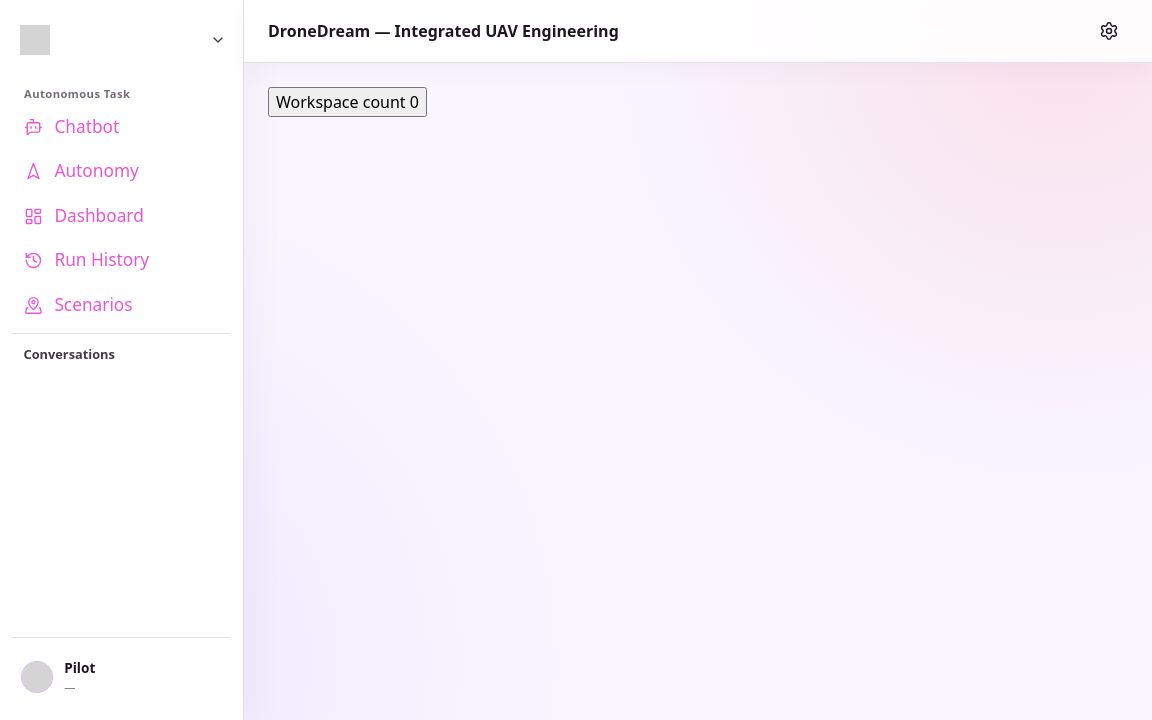
Test: sidebar account menu › keeps the header gear concise and routes All settings into the workspace
This screenshot has width=1152, height=720.
Click the button named "Settings" at (1109, 31), box [1090, 12, 1128, 50]
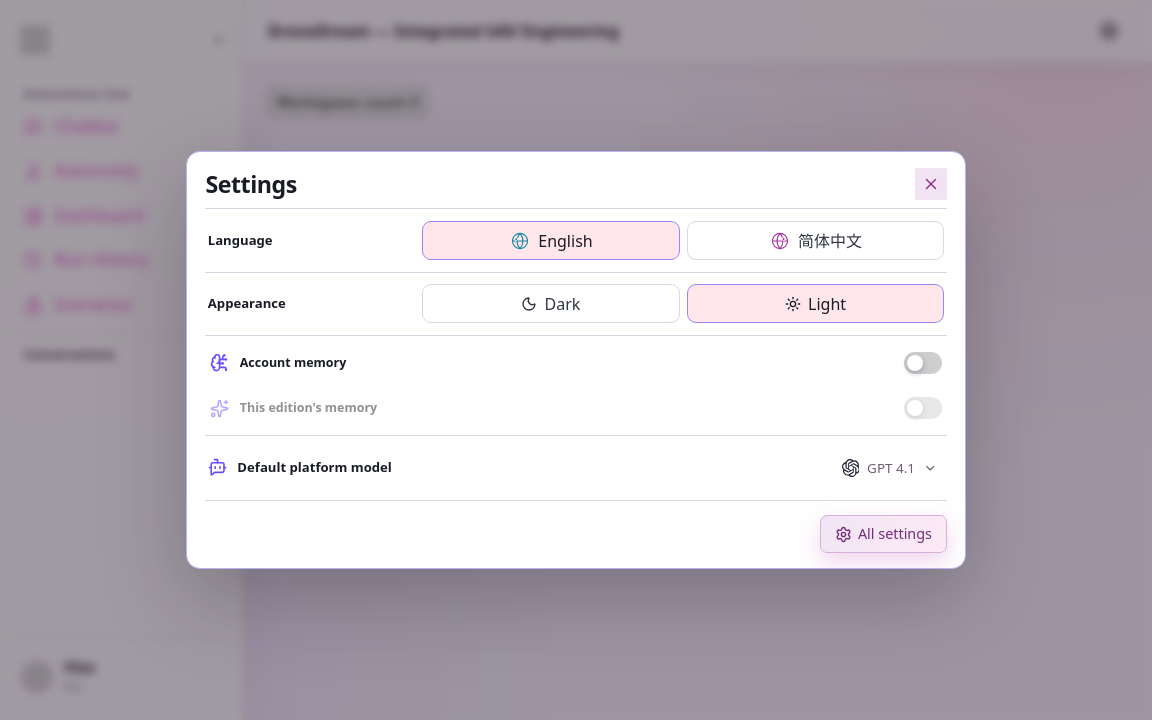
Expected: the text "Language" is shown, [208, 231, 273, 249]
Expected: the text "Appearance" is shown, [208, 294, 286, 312]
Expected: the text "Account memory" is shown, [240, 355, 346, 370]
Click the checkbox labelled "Account memory" at (293, 362), box [210, 352, 942, 374]
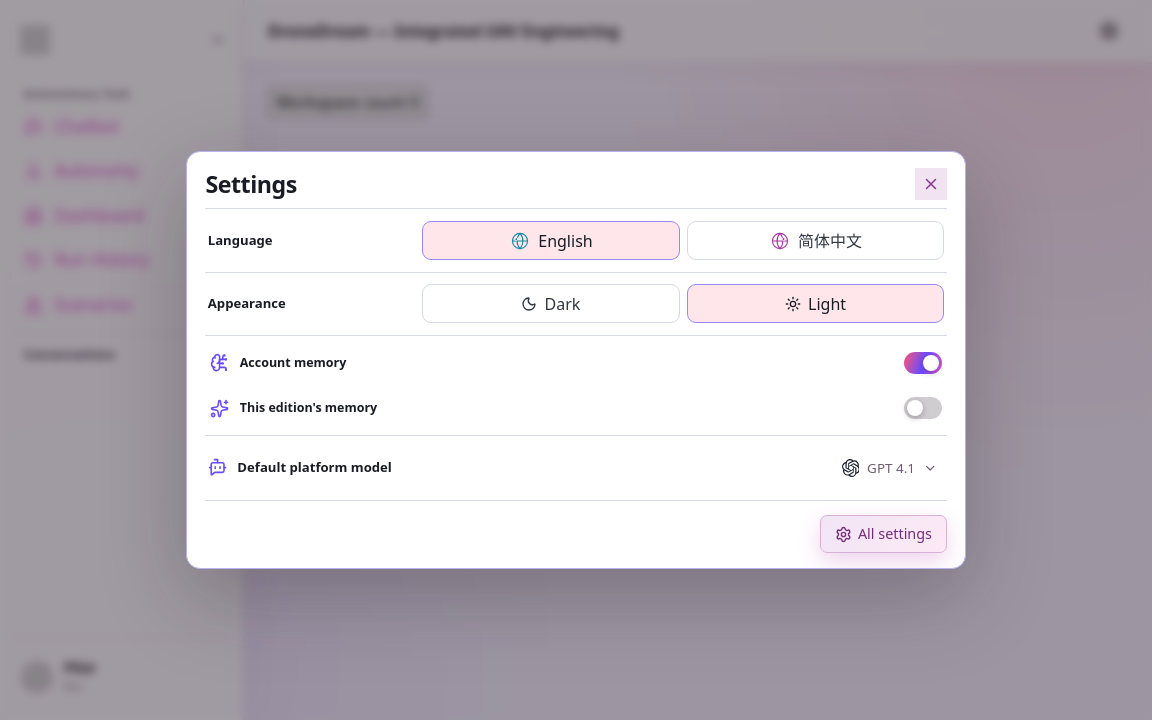
Click the button "All settings" at (883, 534), box [820, 515, 947, 553]
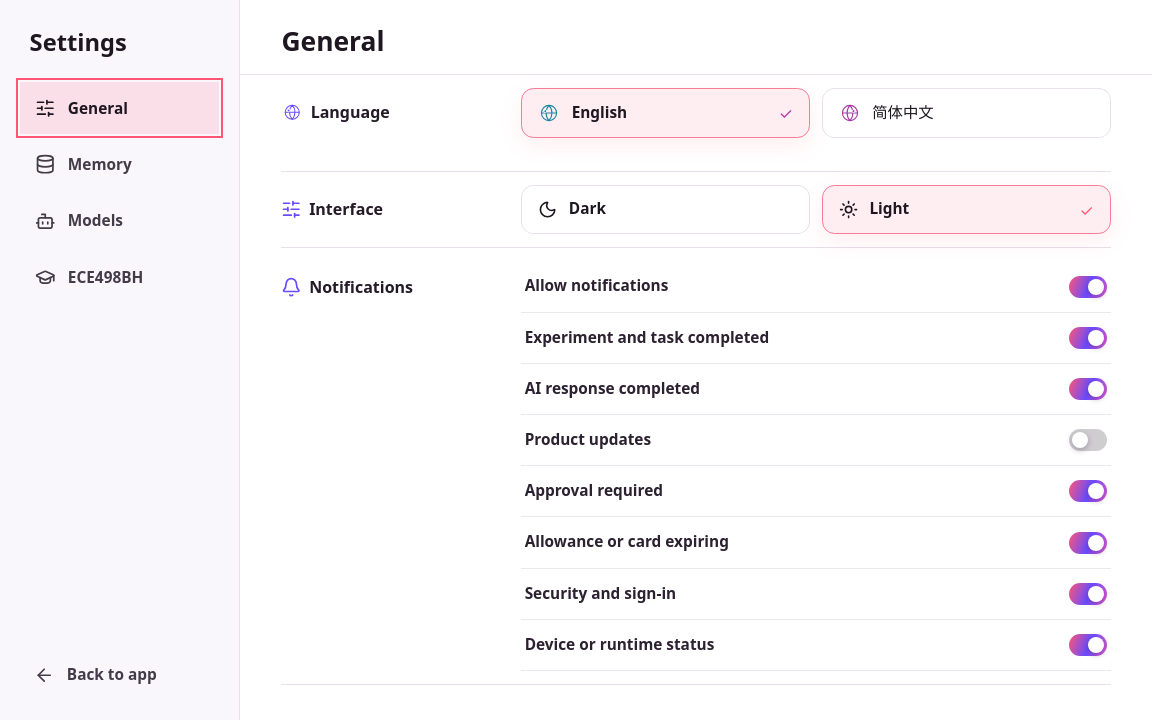
Click the tab "Memory" at (120, 164), box [20, 138, 219, 190]
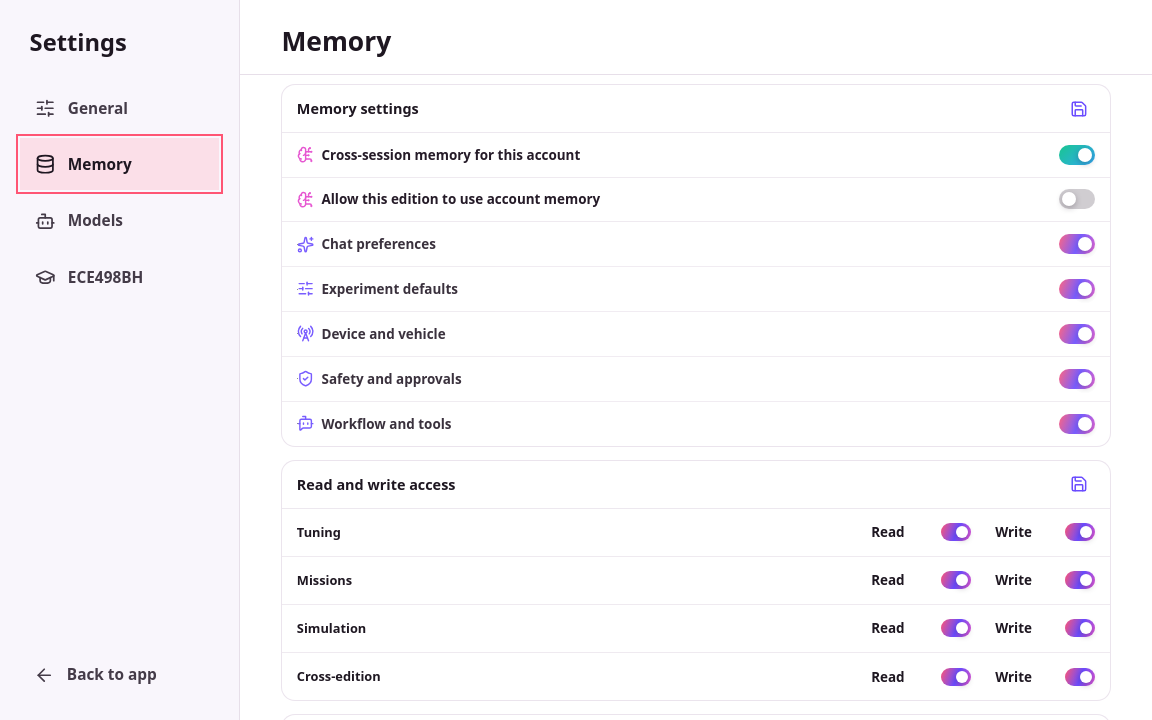
Expected: the checkbox labelled "Cross-session memory for this account" is checked, [282, 133, 1110, 178]
Press Escape
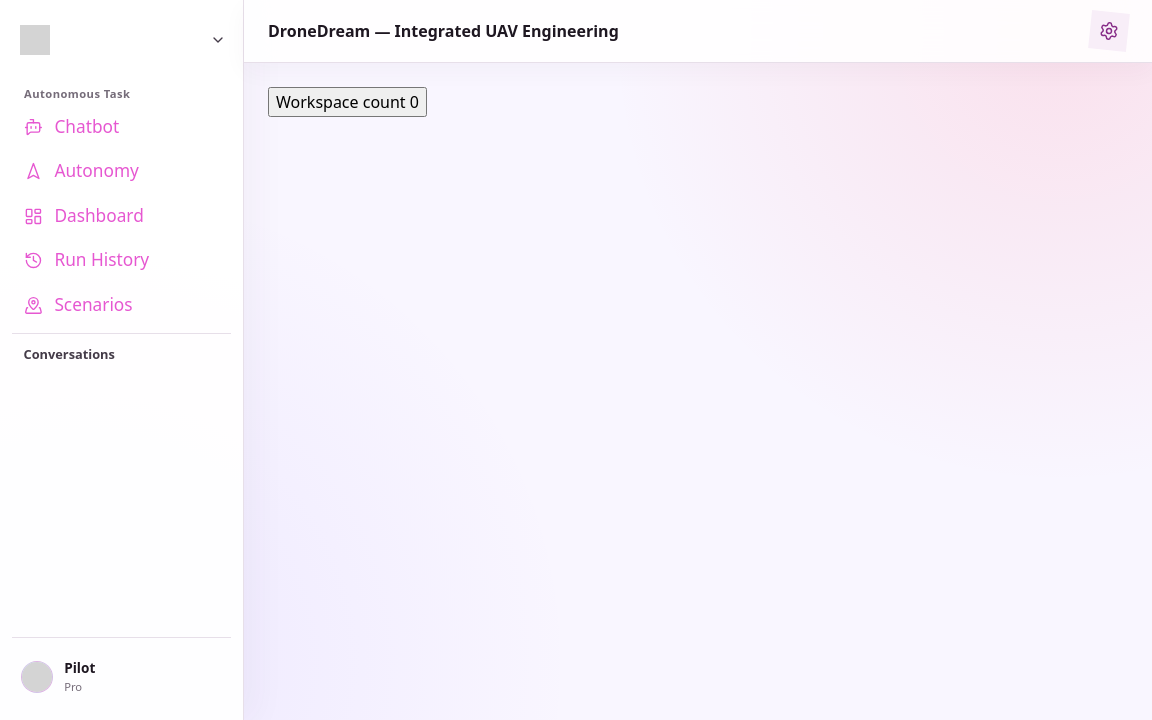
Expected: the heading "Settings" is gone
